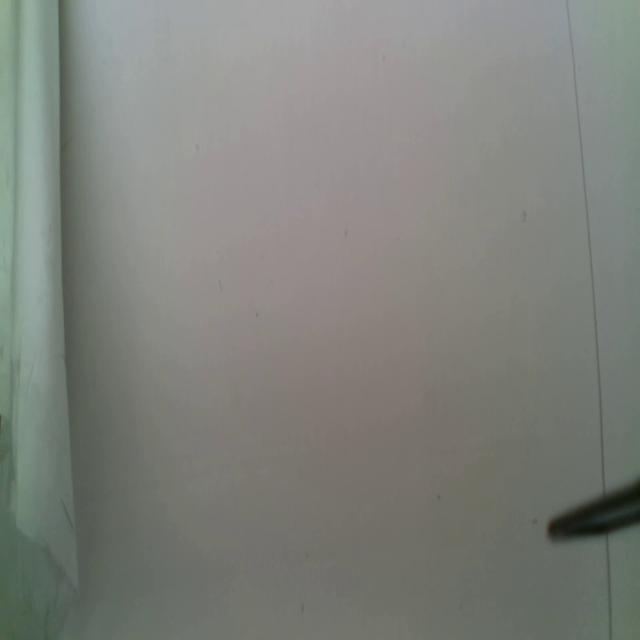crease: (564, 0, 607, 490), (605, 533, 613, 640)
